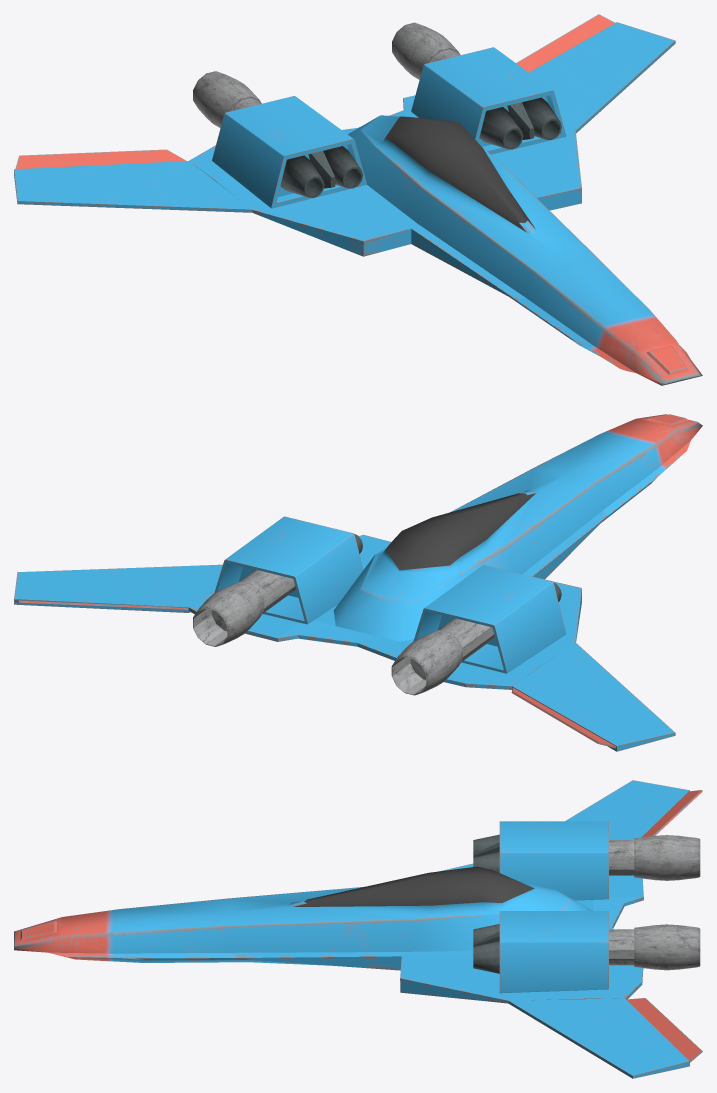
Rendered from spaceship_1.fbx.
3 views of the same model, one above another, from view 1: azimuth 30°, elevation 25°; view 2: azimuth 150°, elevation 25°; view 3: azimuth 270°, elevation 25° (orthographic). The views are drawn at different scales.
Visible parts, largest first — view 1: Box001, Box007, Box011, Box002, Box009, Object001, Cylinder009, Cylinder006, Cylinder004, Cylinder008, Cylinder005, Cylinder007; view 2: Box001, Box002, Box009, Box007, Box011, Object001, Cylinder006, Cylinder009; view 3: Box001, Box009, Box011, Box002, Object001, Box007, Cylinder009, Cylinder006, Cylinder007.
Boxes of the visible parts, x1,y1,x2,y2 form: Box001: [189, 95, 702, 385]; Box007: [14, 149, 252, 212]; Box011: [516, 14, 675, 133]; Box002: [212, 96, 366, 208]; Box009: [411, 47, 566, 154]; Object001: [385, 116, 535, 231]; Cylinder009: [392, 22, 460, 79]; Cylinder006: [193, 71, 261, 127]; Cylinder004: [280, 155, 324, 197]; Cylinder008: [479, 107, 523, 149]; Cylinder005: [323, 146, 363, 188]; Cylinder007: [522, 97, 561, 139]; Box001: [189, 414, 702, 689]; Box002: [413, 565, 566, 673]; Box009: [214, 516, 363, 624]; Box007: [511, 642, 675, 751]; Box011: [14, 564, 222, 612]; Object001: [385, 493, 535, 570]; Cylinder006: [391, 618, 494, 695]; Cylinder009: [193, 569, 295, 646]; Box001: [14, 863, 643, 1003]; Box009: [499, 911, 608, 993]; Box011: [508, 998, 702, 1078]; Box002: [499, 821, 608, 900]; Object001: [293, 866, 534, 906]; Box007: [565, 780, 702, 839]; Cylinder009: [609, 924, 700, 970]; Cylinder006: [609, 835, 700, 880]; Cylinder007: [473, 941, 499, 973].
Size of the model in its own units: 810 by 95.43 by 797.
